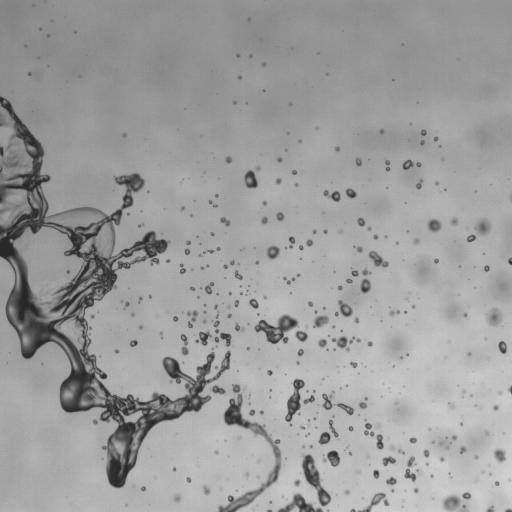droplet: (277, 454, 330, 511), (285, 378, 315, 424), (254, 314, 298, 343), (196, 314, 231, 346), (442, 494, 468, 511), (404, 456, 419, 481), (335, 300, 352, 317), (322, 450, 340, 466), (474, 218, 490, 235), (486, 308, 501, 326), (313, 310, 328, 327), (244, 170, 257, 188), (322, 391, 333, 410), (323, 190, 340, 201), (187, 310, 198, 327), (266, 245, 279, 259), (427, 219, 441, 231), (494, 448, 505, 462), (360, 278, 370, 293), (318, 432, 330, 444), (210, 385, 225, 394), (295, 330, 307, 341), (382, 456, 395, 466), (345, 188, 356, 198), (402, 160, 414, 169), (204, 282, 213, 294), (498, 341, 506, 353), (220, 217, 230, 226), (249, 298, 258, 308), (318, 338, 327, 347), (386, 477, 396, 485), (284, 277, 295, 284), (276, 212, 284, 221), (235, 323, 244, 331), (203, 485, 210, 495), (467, 234, 475, 242), (234, 271, 242, 279), (361, 269, 370, 276), (462, 492, 471, 499), (416, 179, 422, 189), (389, 310, 399, 316), (357, 218, 364, 226), (359, 401, 366, 409), (179, 264, 185, 273), (373, 469, 379, 478), (485, 505, 494, 511), (423, 449, 429, 457), (225, 156, 231, 163), (451, 218, 457, 225), (306, 239, 312, 246), (351, 270, 358, 276), (130, 340, 137, 346), (448, 402, 454, 409), (409, 437, 416, 443), (460, 446, 466, 453), (294, 479, 300, 486), (356, 158, 361, 166), (261, 217, 267, 223), (356, 246, 362, 252), (297, 349, 303, 355), (397, 448, 403, 454), (174, 495, 180, 501), (350, 362, 357, 367), (421, 129, 426, 135), (276, 178, 281, 184), (413, 238, 418, 244), (484, 265, 489, 271), (346, 278, 352, 283), (354, 317, 359, 323), (249, 409, 254, 415), (389, 445, 395, 450), (277, 157, 282, 162), (184, 249, 189, 254), (337, 285, 342, 290), (308, 301, 313, 306), (267, 370, 272, 375), (493, 405, 498, 410), (348, 426, 353, 431), (186, 477, 191, 482), (344, 489, 349, 494), (207, 249, 213, 253), (234, 300, 238, 306), (504, 508, 511, 511), (434, 136, 438, 141), (335, 146, 339, 151), (255, 166, 260, 170), (373, 234, 377, 239), (299, 245, 303, 250), (434, 258, 438, 263), (230, 260, 234, 265), (189, 286, 194, 290), (125, 302, 129, 307), (173, 316, 177, 321), (368, 341, 372, 346), (245, 472, 249, 477), (141, 486, 145, 491), (122, 133, 126, 137), (416, 162, 420, 166), (292, 170, 296, 174), (262, 201, 266, 205), (323, 229, 327, 233), (186, 240, 190, 244), (90, 314, 94, 318), (227, 314, 231, 318), (159, 333, 163, 337), (259, 410, 263, 414), (452, 435, 456, 439), (474, 455, 478, 459), (440, 457, 444, 461), (495, 481, 499, 485), (414, 488, 418, 492), (380, 129, 383, 133), (420, 141, 424, 144), (367, 227, 371, 230), (210, 232, 214, 235), (224, 264, 227, 268), (66, 270, 70, 273), (139, 297, 142, 301), (463, 313, 467, 316), (115, 349, 118, 353), (139, 224, 142, 227), (313, 230, 316, 233), (217, 247, 220, 250), (166, 259, 169, 262), (214, 305, 217, 308), (227, 305, 230, 308), (301, 426, 304, 429), (485, 431, 488, 434), (306, 433, 309, 436), (215, 450, 218, 453), (356, 470, 359, 473), (391, 489, 394, 492), (325, 509, 329, 511), (262, 63, 265, 65), (239, 76, 241, 79), (295, 183, 297, 186), (435, 182, 438, 184), (215, 194, 217, 197), (181, 207, 184, 209), (395, 242, 398, 244), (228, 292, 231, 294), (412, 305, 414, 308), (203, 320, 206, 322), (139, 326, 142, 328), (462, 390, 465, 392), (377, 424, 379, 427), (339, 230, 341, 232), (201, 253, 203, 255), (256, 261, 258, 263), (297, 274, 299, 276), (264, 296, 266, 298), (247, 347, 249, 349), (468, 352, 470, 354), (400, 357, 402, 359), (313, 390, 315, 392), (426, 463, 428, 465), (173, 468, 175, 470), (431, 475, 433, 477)
ligament: (0, 96, 230, 488), (217, 384, 281, 511), (350, 492, 388, 511), (364, 422, 383, 449), (332, 336, 360, 351), (368, 251, 388, 267), (336, 403, 353, 414), (180, 334, 188, 355), (329, 419, 338, 437), (289, 236, 295, 247), (208, 200, 217, 207), (385, 160, 390, 170), (0, 207, 8, 213), (508, 385, 511, 394), (508, 257, 511, 265), (266, 509, 272, 511), (510, 194, 511, 200)
